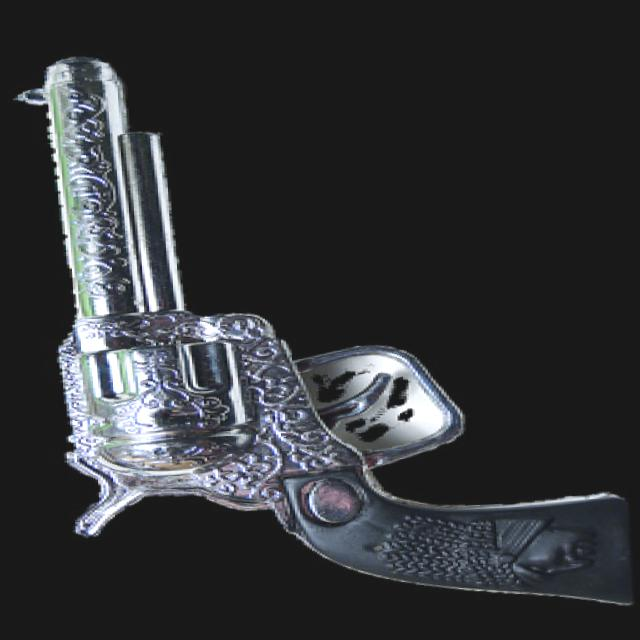handgun: (6, 28, 630, 640)
